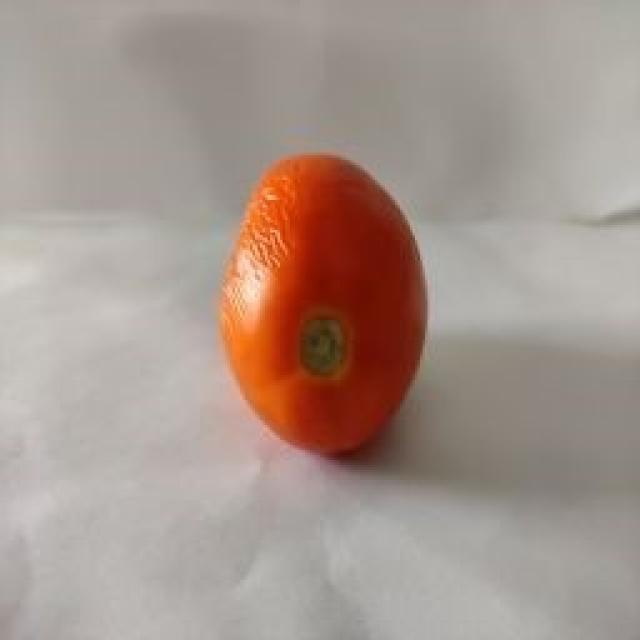Ripe: (218, 148, 428, 461)
